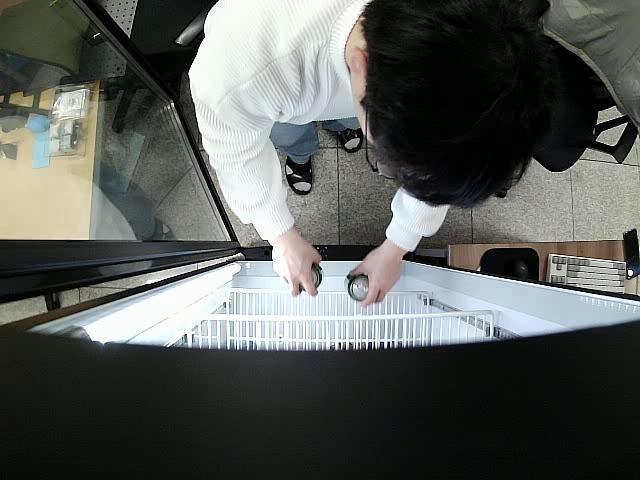12_chilsungCider: (348, 273, 370, 301), (300, 262, 322, 290)
